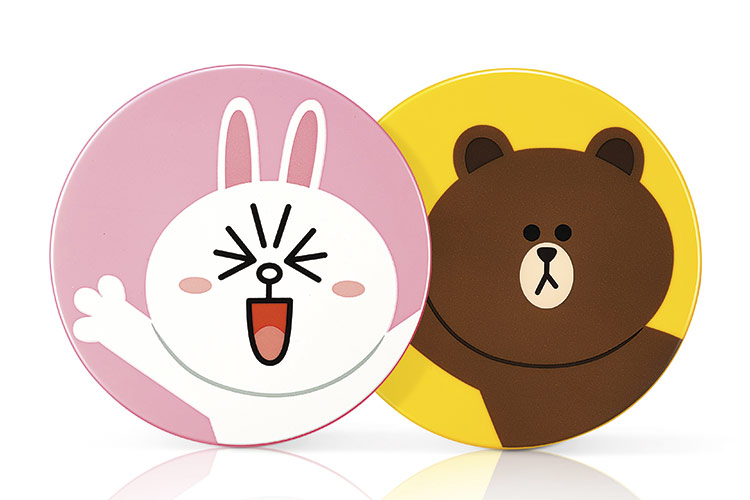line_brown: (415, 110, 690, 367)
